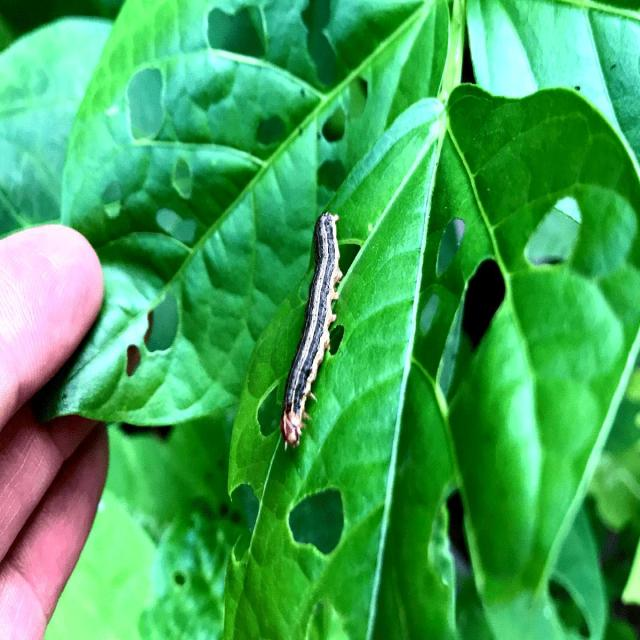Armyworm: (280, 188, 344, 501)
Armyworm_damage: (424, 260, 515, 433), (510, 161, 596, 308), (284, 476, 348, 573), (286, 1, 357, 85), (111, 58, 167, 157), (225, 458, 262, 580), (138, 287, 191, 371), (100, 329, 163, 391), (188, 72, 236, 152), (205, 9, 267, 67), (149, 194, 202, 255), (252, 88, 291, 160), (433, 216, 472, 284), (257, 371, 285, 456), (336, 79, 381, 129), (317, 104, 352, 158), (416, 283, 440, 357), (101, 175, 126, 236), (172, 155, 202, 204)
